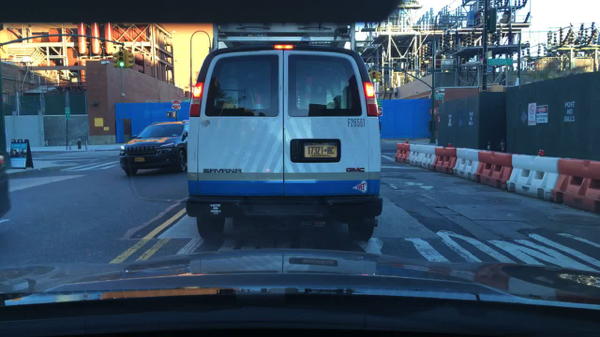car: (184, 18, 384, 243), (119, 118, 190, 177), (0, 153, 13, 220)
traffic light: (124, 51, 134, 67), (118, 50, 124, 68), (369, 71, 375, 84), (376, 71, 382, 84), (112, 52, 116, 68), (433, 109, 439, 116), (172, 111, 177, 118), (428, 109, 433, 116), (166, 113, 172, 117)
traffic sign: (487, 59, 512, 66), (172, 100, 180, 109), (376, 98, 382, 110), (65, 108, 71, 119), (435, 94, 444, 101), (377, 106, 382, 117), (101, 61, 109, 65)
